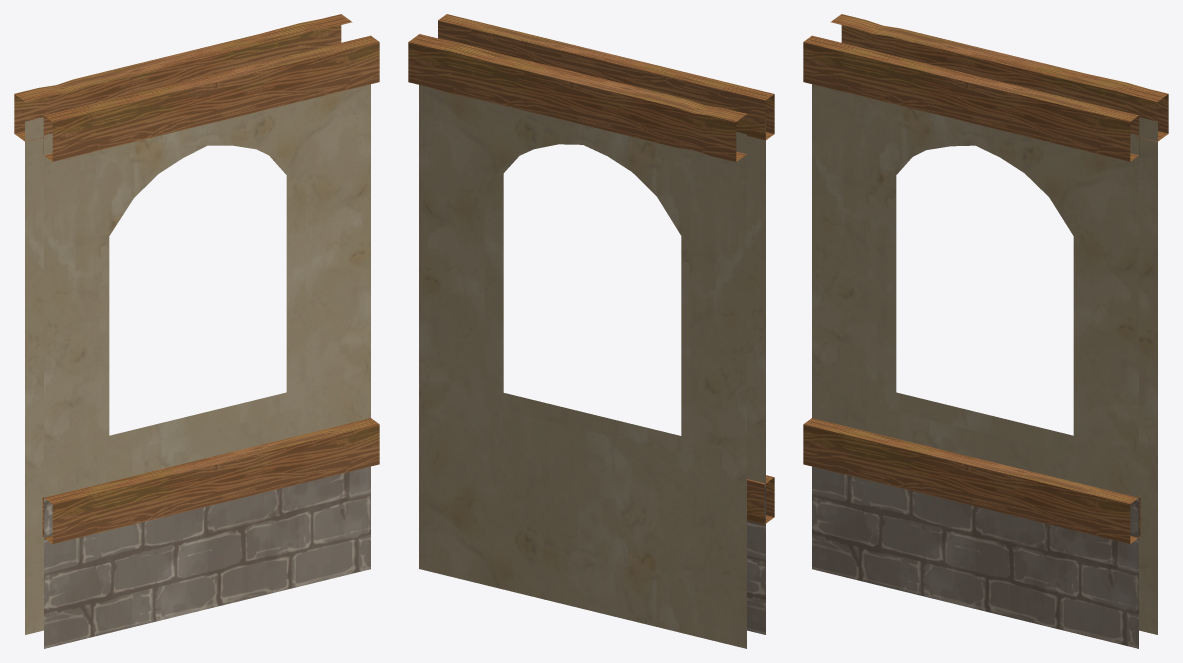
File: window-wall.glb
The picture shows the model from 3 angles, left to right: view 1: azimuth 30°, elevation 25°; view 2: azimuth 150°, elevation 25°; view 3: azimuth 330°, elevation 25°; orthographic projection.
Visible parts, largest first — view 1: Wall_Plaster_Window_Wide_Round; view 2: Wall_Plaster_Window_Wide_Round; view 3: Wall_Plaster_Window_Wide_Round.
Part boxes in pixels (x1,y1,x2,y2): Wall_Plaster_Window_Wide_Round: (14,14,379,648); Wall_Plaster_Window_Wide_Round: (408,14,774,648); Wall_Plaster_Window_Wide_Round: (803,14,1168,648).
Bounding box in the file's own units: 2 × 3.12 × 0.4066.
Materials: 3 (3 with a texture image).
